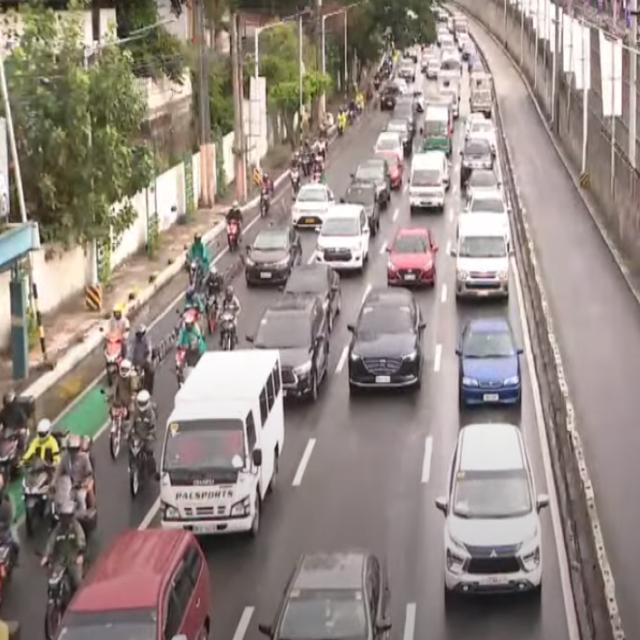car: (49, 526, 214, 640), (443, 423, 544, 600), (266, 549, 388, 640), (347, 290, 426, 392), (253, 304, 330, 402), (460, 317, 524, 409), (457, 210, 511, 299), (316, 205, 371, 268), (386, 228, 436, 291), (246, 229, 294, 292), (284, 261, 340, 313), (408, 146, 446, 219), (344, 182, 383, 234), (288, 219, 324, 268), (353, 159, 394, 202), (466, 171, 503, 214), (293, 186, 332, 223), (462, 136, 497, 172), (439, 58, 461, 73), (398, 64, 416, 82), (439, 79, 459, 93), (427, 62, 441, 78), (382, 97, 395, 109)
motorbike: (23, 412, 60, 535), (54, 438, 95, 548), (130, 387, 156, 499), (1, 516, 20, 624), (225, 283, 242, 365), (208, 257, 222, 332), (174, 348, 188, 384)
truck: (158, 349, 287, 541)
